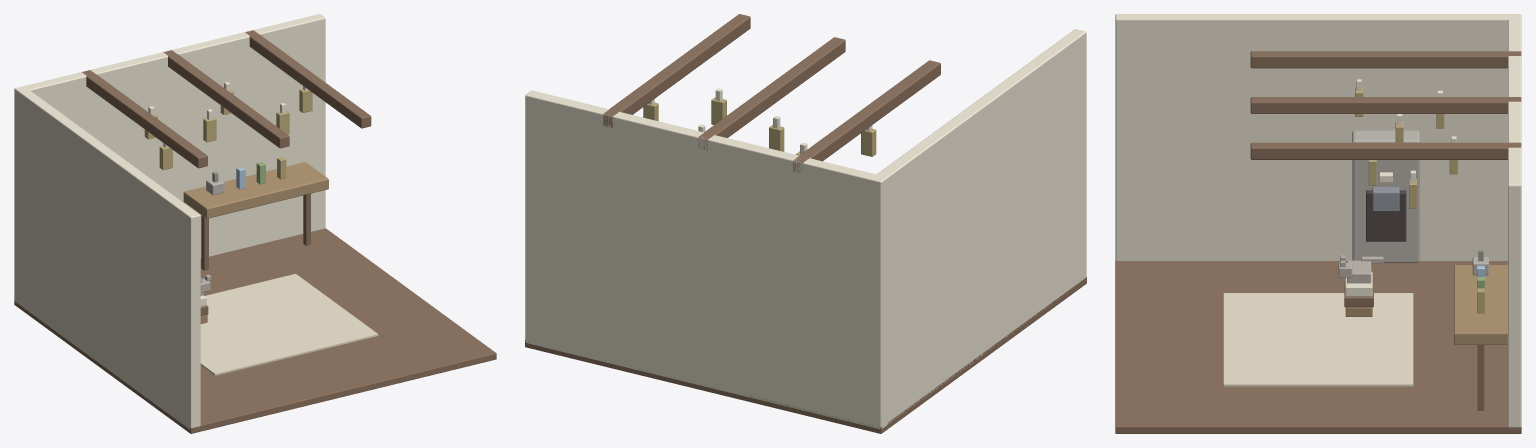
File: herbalist_interior.glb
The picture shows the model from 3 angles, left to right: view 1: azimuth 30°, elevation 25°; view 2: azimuth 150°, elevation 25°; view 3: azimuth 270°, elevation 25°; orthographic projection. The views are drawn at different scales.
Parts seen in each view (by area): view 1: Wall_L, Wall_back, Floor, Rug, Bench, Beam_2, Beam_0, Beam_1; view 2: Wall_back, Wall_L, Floor, Beam_2, Beam_0, Beam_1; view 3: Wall_L, Floor, Rug, Wall_back, Hearth, Beam_2, Beam_0, Beam_1, Bench, Hearth_op, Pot, Bench_leg_R (+3 smaller).
Part boxes in pixels (left/top/right/bottom): Wall_L: left=14, top=86, right=200, bottom=429; Wall_back: left=14, top=14, right=325, bottom=295; Floor: left=14, top=228, right=496, bottom=433; Rug: left=200, top=273, right=378, bottom=375; Bench: left=183, top=162, right=328, bottom=218; Beam_2: left=245, top=30, right=371, bottom=128; Beam_0: left=82, top=70, right=207, bottom=168; Beam_1: left=163, top=50, right=289, bottom=148; Wall_back: left=525, top=90, right=887, bottom=429; Wall_L: left=871, top=29, right=1086, bottom=424; Floor: left=525, top=277, right=1086, bottom=433; Beam_2: left=603, top=14, right=750, bottom=127; Beam_0: left=793, top=60, right=940, bottom=172; Beam_1: left=698, top=37, right=845, bottom=150; Wall_L: left=1115, top=14, right=1521, bottom=260; Floor: left=1115, top=261, right=1521, bottom=433; Rug: left=1223, top=293, right=1413, bottom=386; Wall_back: left=1508, top=14, right=1521, bottom=428; Hearth: left=1352, top=130, right=1419, bottom=262; Beam_2: left=1250, top=142, right=1521, bottom=159; Beam_0: left=1250, top=51, right=1521, bottom=68; Beam_1: left=1250, top=97, right=1521, bottom=113; Bench: left=1454, top=265, right=1507, bottom=344; Hearth_op: left=1366, top=190, right=1406, bottom=241; Pot: left=1372, top=187, right=1399, bottom=211; Bench_leg_R: left=1477, top=345, right=1484, bottom=410.
Size of the model in its own units: 3 by 2.03 by 3.
